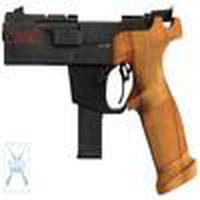gun: (3, 7, 200, 188)
